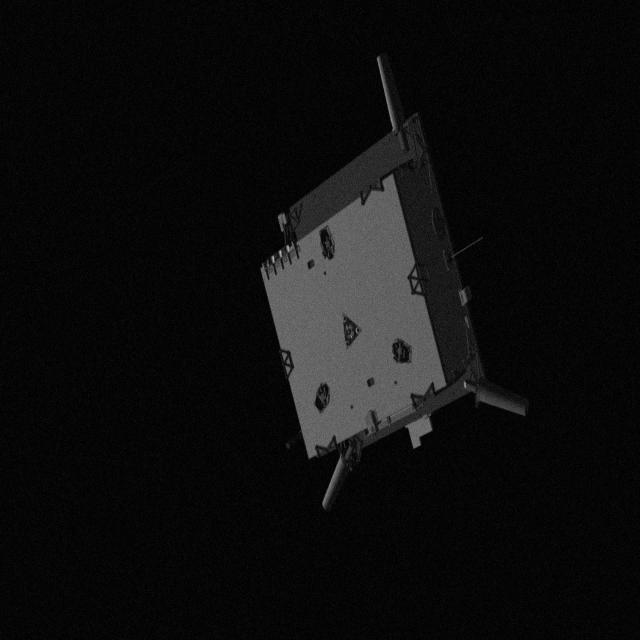medium_debris: (228, 52, 538, 516)
